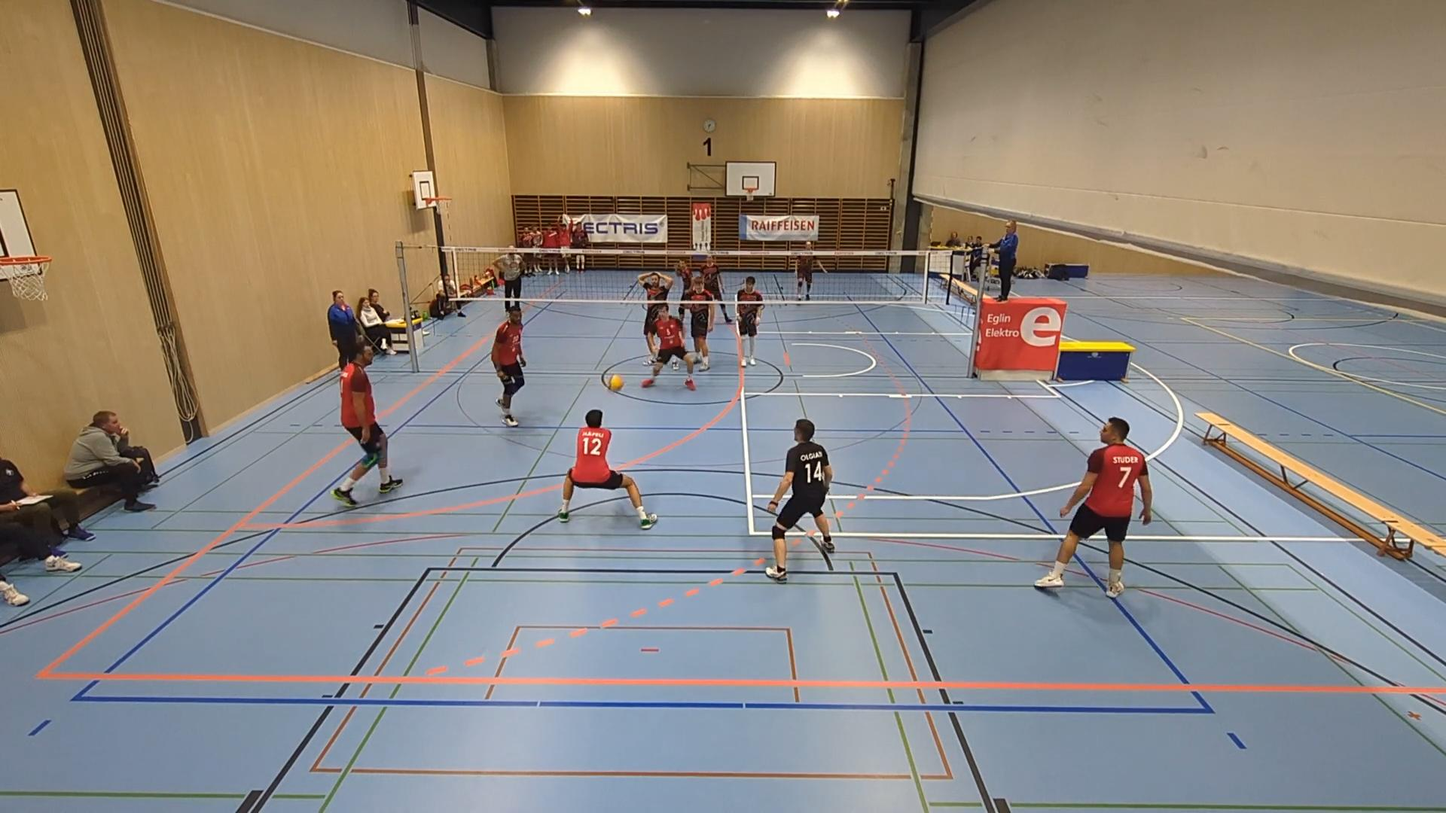ricezione: (561, 406, 663, 529)
